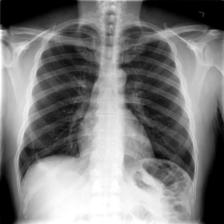normal: (15, 19, 198, 200)
